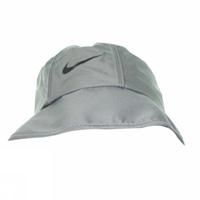hat: (9, 42, 184, 144)
